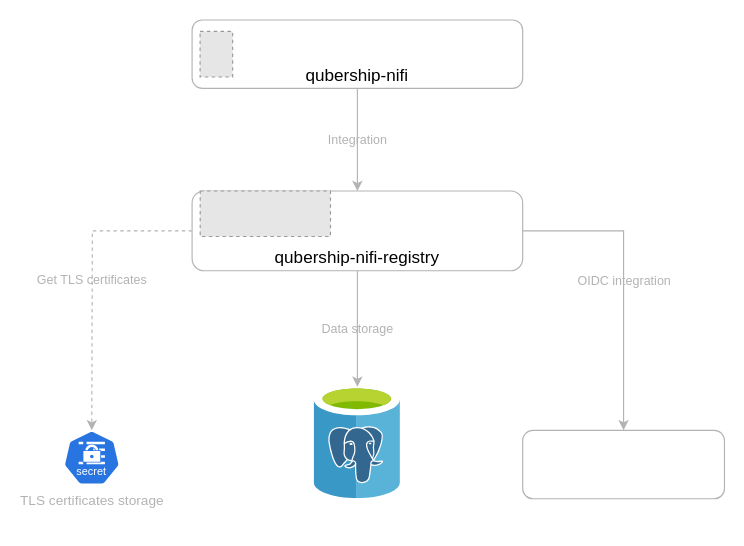
Image size: 744x546. Some labels were removed from this diagram. Grey dashed boxes stand in for pictures. The shapes that lost their labels are listed below. From the top down, each one's centre as x and y in pixels, then its label:
At pixel 357 441: "PostgreSQL".
At pixel 623 464: "Identity provider service".
